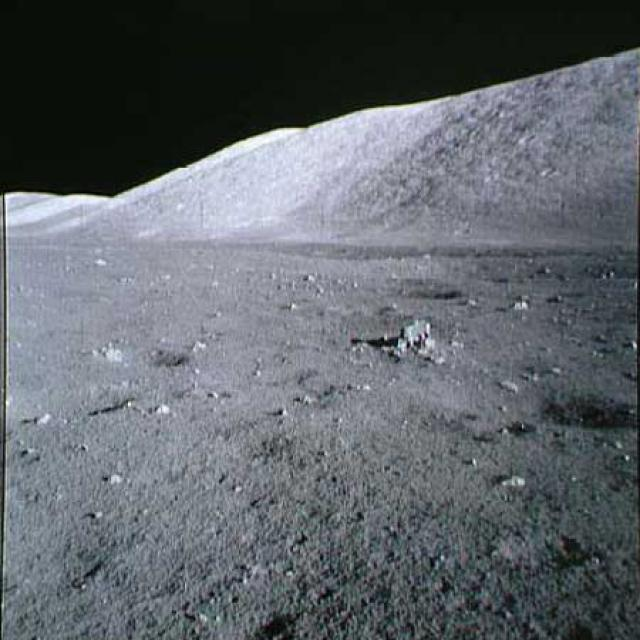crater: (496, 391, 634, 430), (468, 256, 636, 282), (376, 279, 465, 304), (134, 347, 188, 369)
rock: (377, 311, 440, 362)
